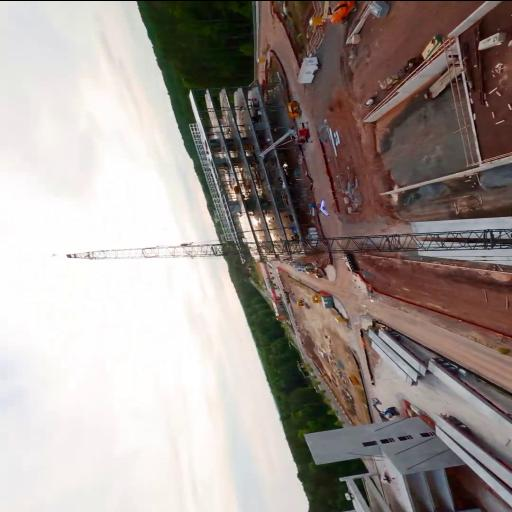uav: (318, 199, 332, 215)
